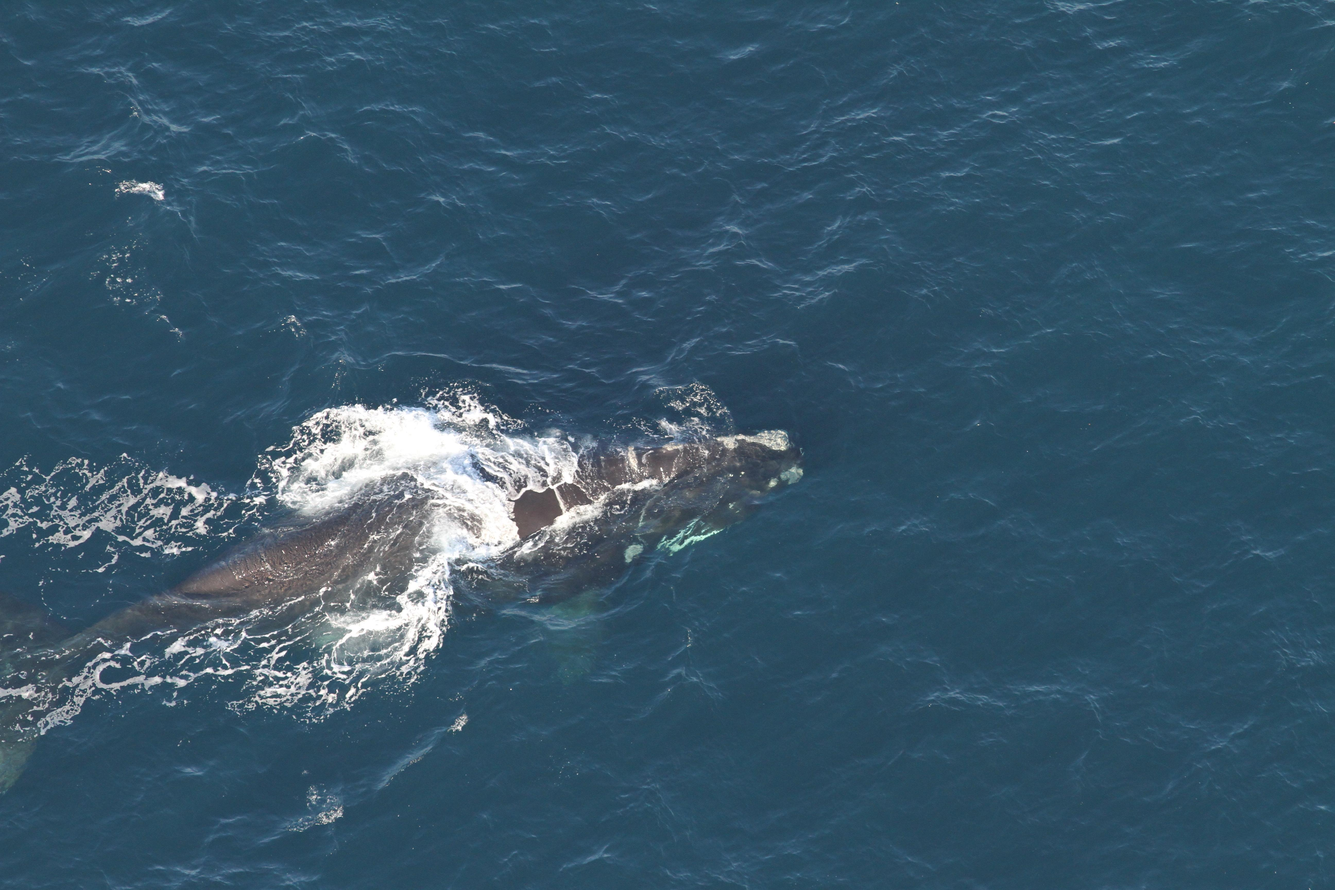whale: (0, 417, 816, 817)
